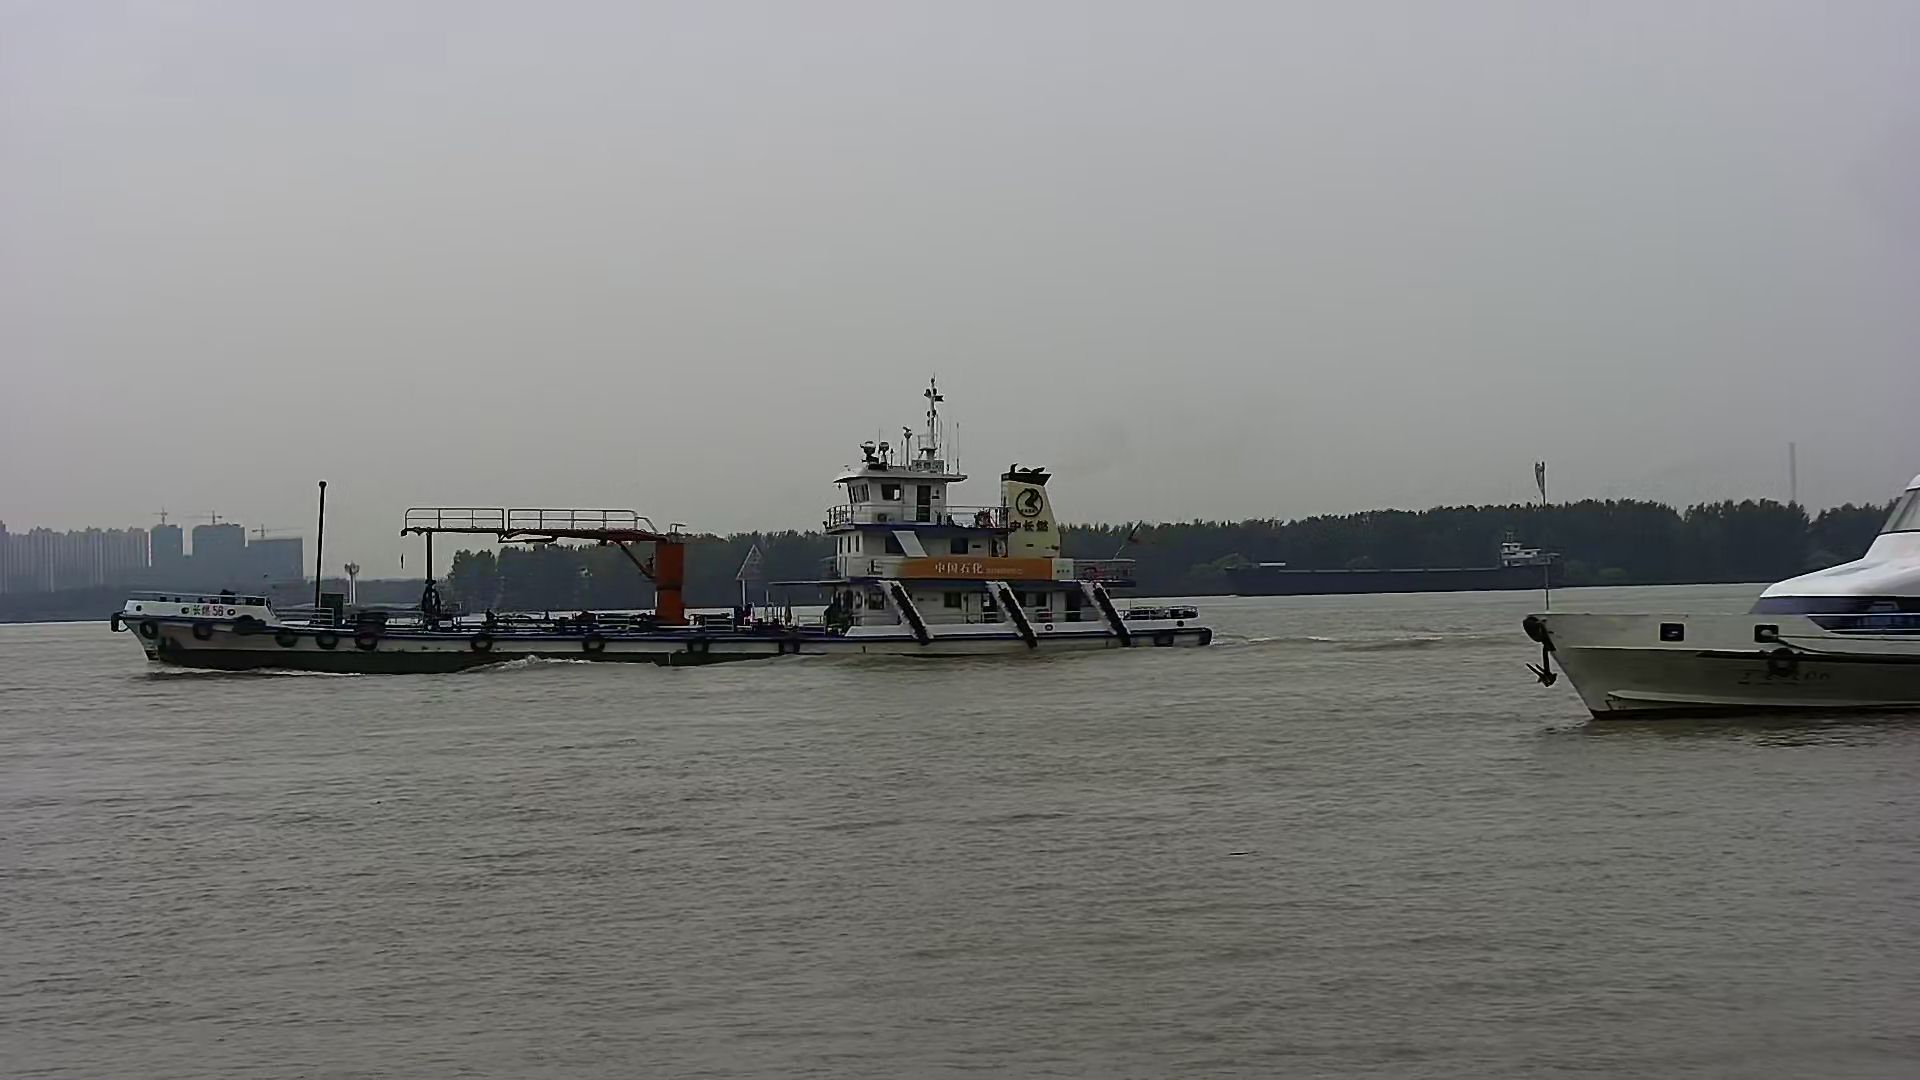ship: (121, 425, 1218, 676), (1526, 469, 1920, 715), (1211, 533, 1571, 595)
